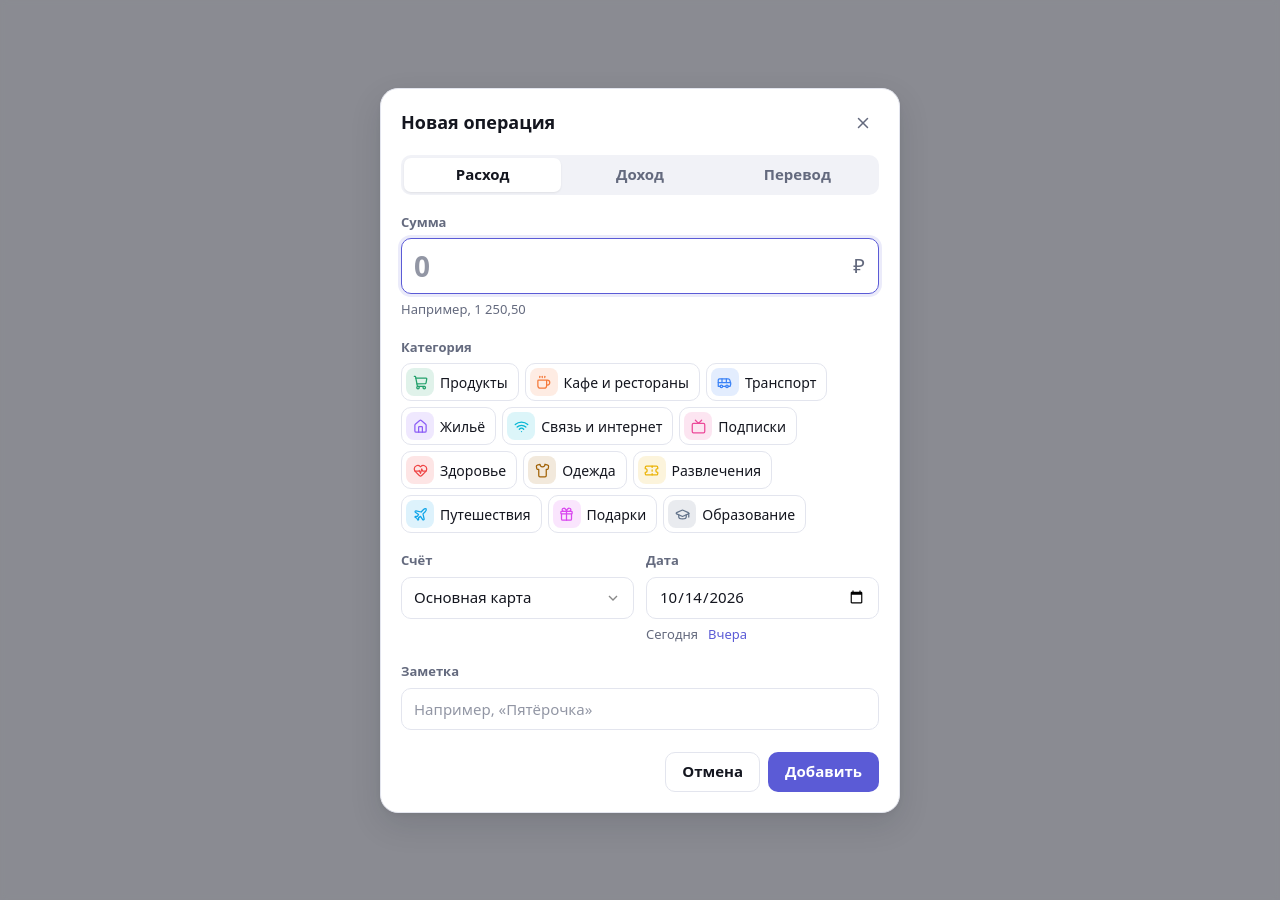
Test: форма операции › ошибки своей проверки — под полями, с aria-invalid
Click the button "Добавить": click(824, 772) top-left (768, 752), bottom-right (879, 792)
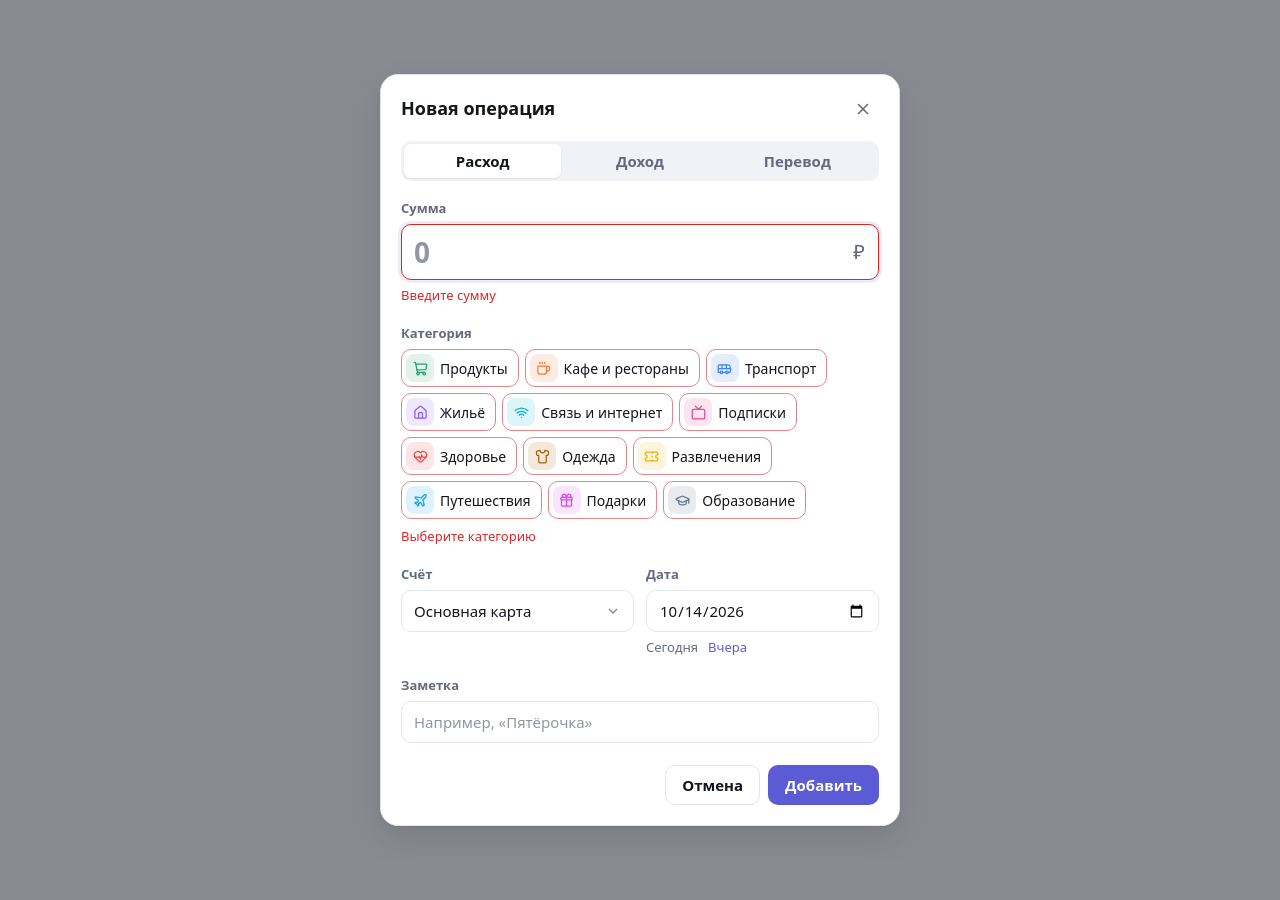
Expected: the text "Введите сумму" is shown, top-left (401, 286), bottom-right (496, 304)
Expected: the text "Выберите категорию" is shown, top-left (401, 527), bottom-right (536, 545)
